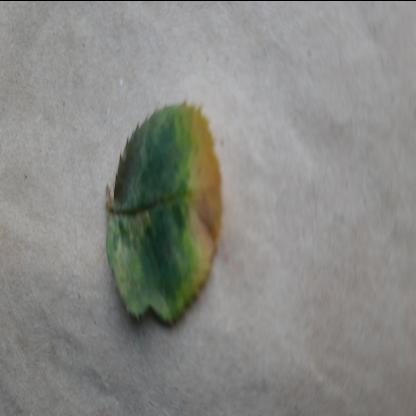black-spot: (106, 96, 224, 328)
